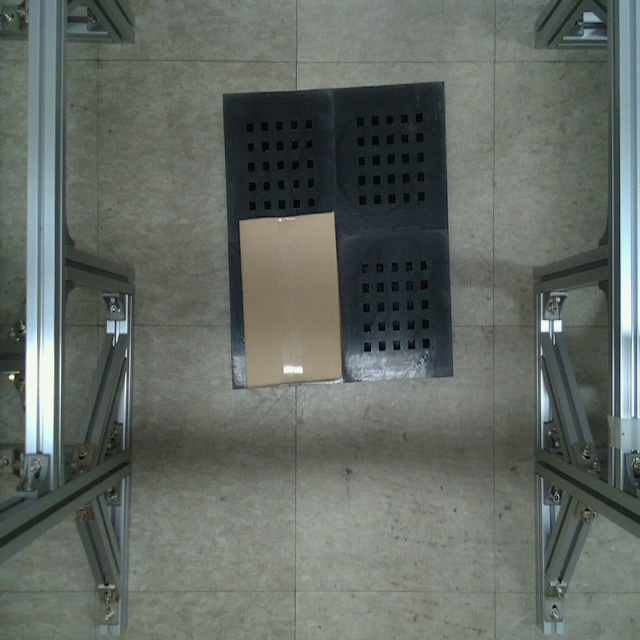box: (235, 208, 347, 390)
pallet: (218, 75, 460, 392)
